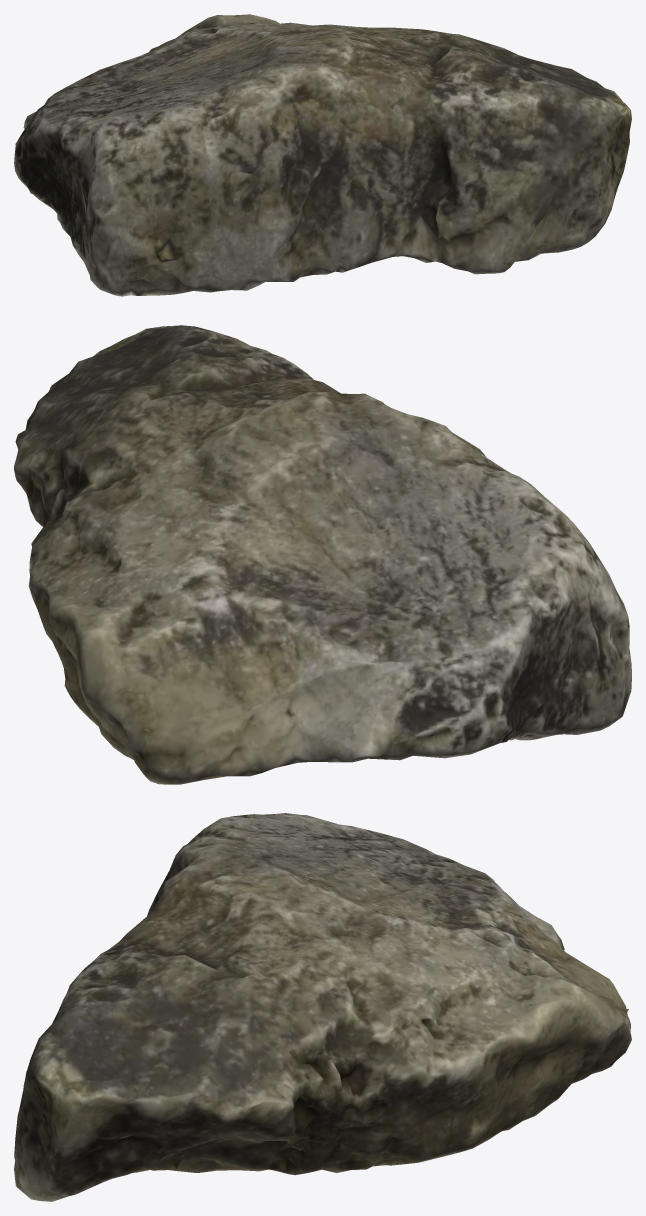
Rendered from moss-rock-02.glb.
3 views of the same model, one above another, from view 1: azimuth 30°, elevation 25°; view 2: azimuth 150°, elevation 25°; view 3: azimuth 270°, elevation 25° (orthographic). The views are drawn at different scales.
Visible parts, largest first — view 1: moss rock 11; view 2: moss rock 11; view 3: moss rock 11.
Part boxes in pixels (x1,y1,x2,y2): moss rock 11: (14,14,631,296); moss rock 11: (14,325,631,784); moss rock 11: (14,813,631,1201).
Size of the model in its own units: 1.45 by 0.5703 by 1.34.
Materials: 1 (1 with a texture image).
